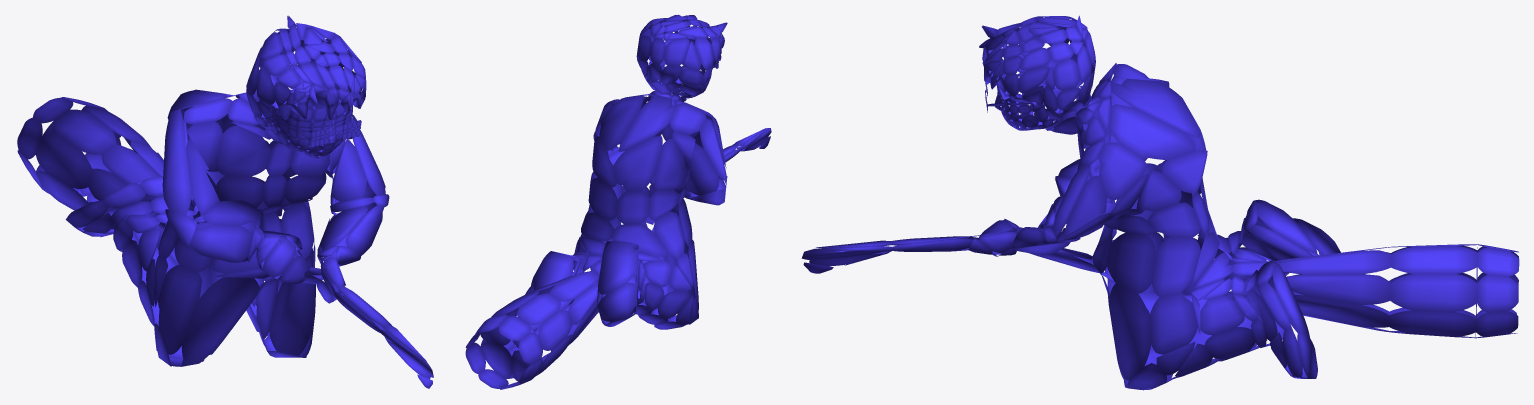
3 renders of one model, left to right at view 1: azimuth 30°, elevation 25°; view 2: azimuth 150°, elevation 25°; view 3: azimuth 270°, elevation 25°, orthographic. The views are drawn at different scales.
Visible parts, largest first — view 1: T1L7M005_7; view 2: T1L7M005_7; view 3: T1L7M005_7.
Boxes of the visible parts, x1,y1,x2,y2 form: T1L7M005_7: (17,15,433,388); T1L7M005_7: (465,14,771,389); T1L7M005_7: (801,15,1519,390).
Size of the model in its own units: 0.502 by 0.9268 by 1.68.
